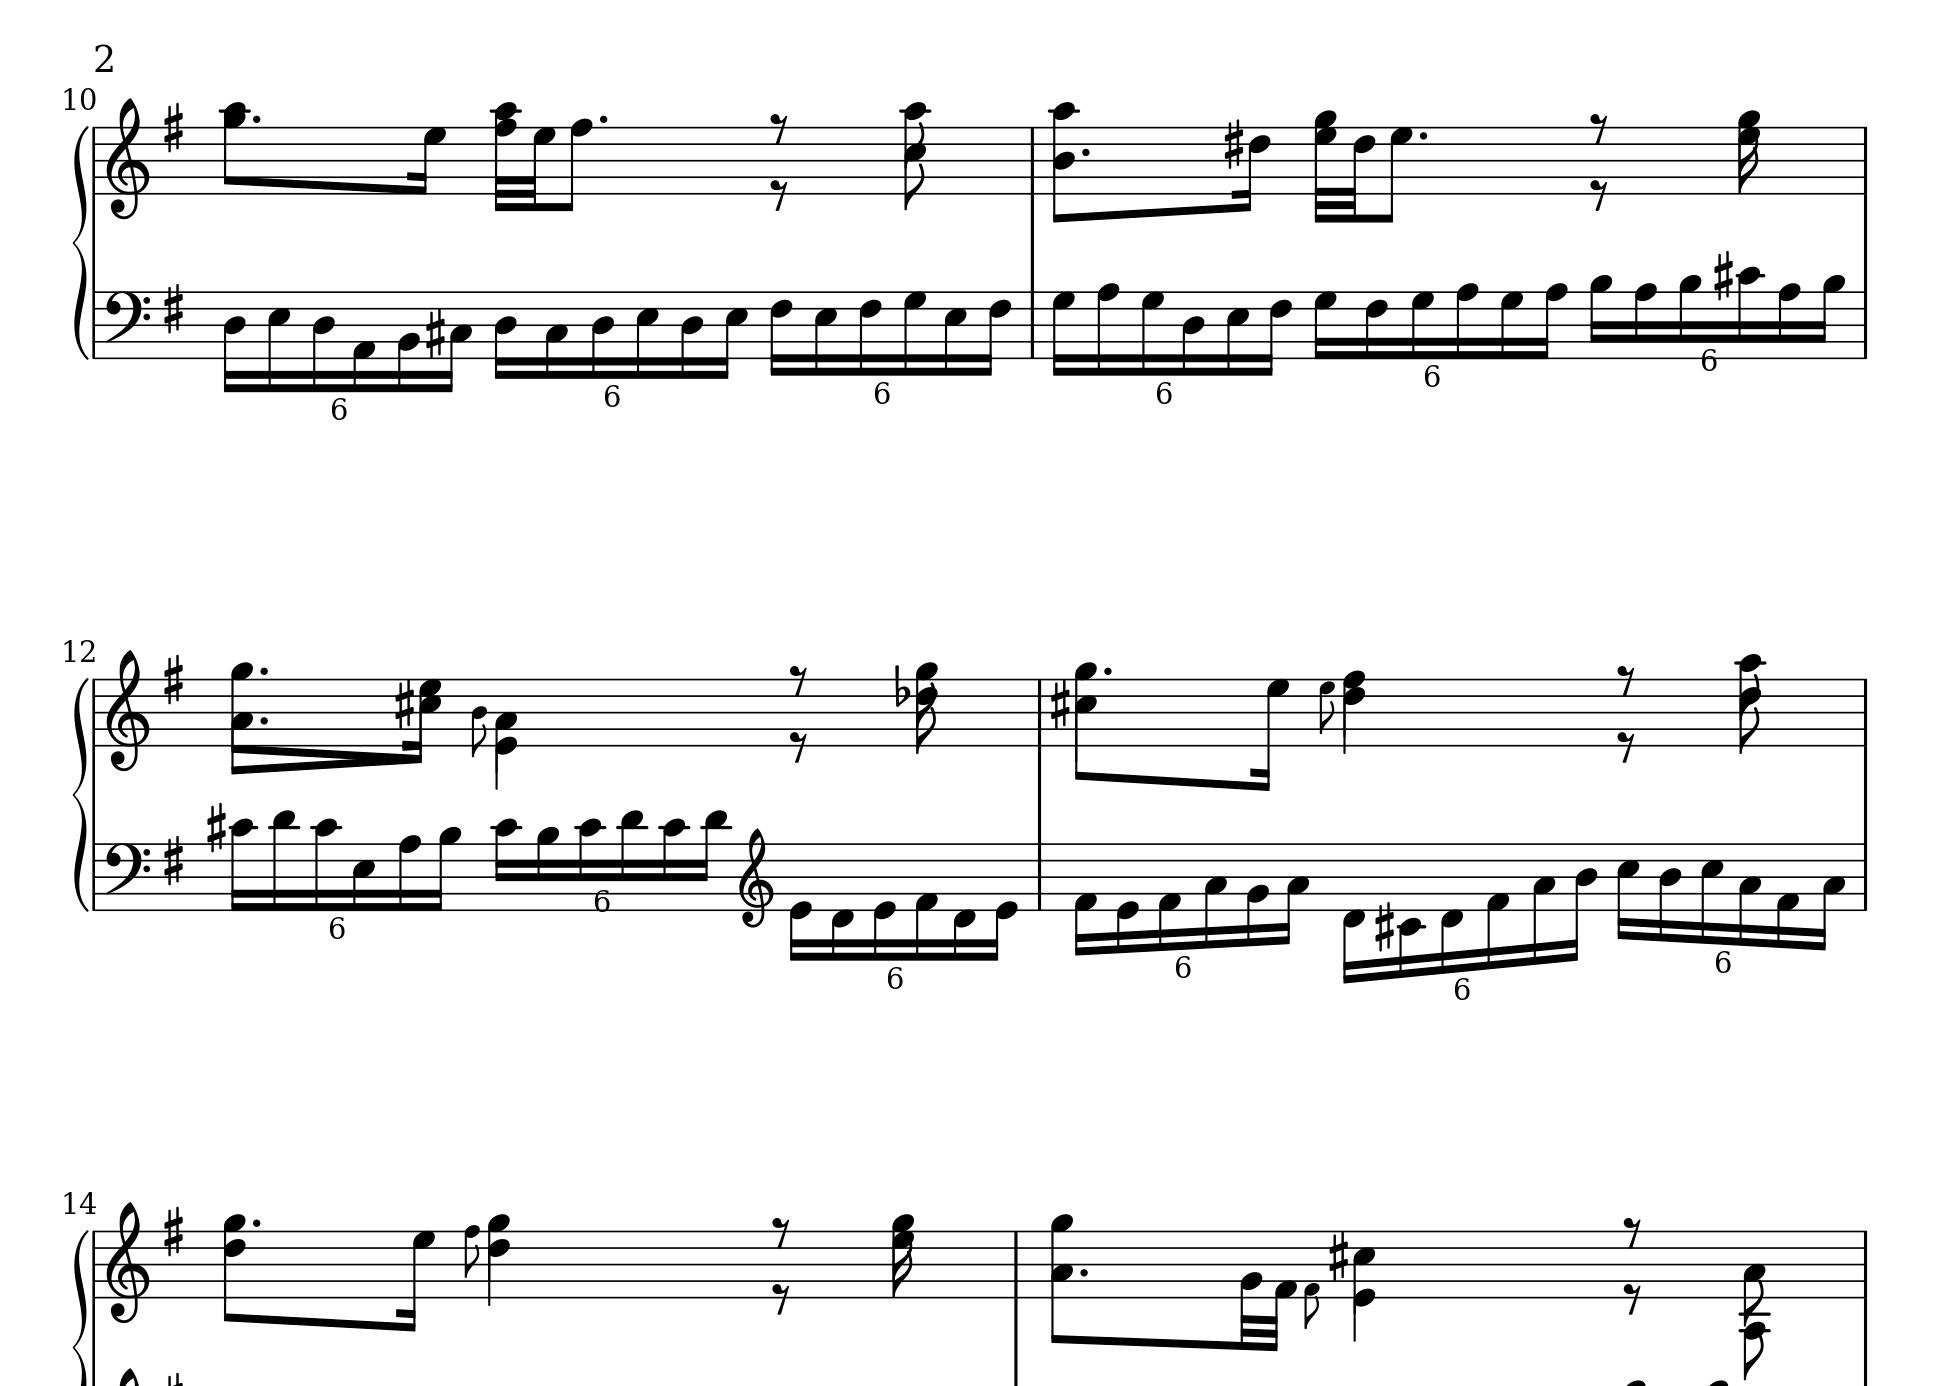0: (79, 84, 96, 112)
1: (61, 85, 76, 112), (61, 637, 76, 664), (61, 1189, 76, 1216)
16_-1: (1341, 840, 1368, 985), (1438, 841, 1465, 976), (829, 840, 856, 961), (952, 840, 978, 961)
16_-2: (1398, 838, 1425, 981)
16_0: (987, 840, 1018, 961), (789, 840, 814, 961), (871, 841, 897, 961), (1116, 841, 1140, 954)
16_1: (1485, 840, 1512, 970), (1072, 840, 1099, 957), (913, 841, 939, 961), (1156, 841, 1183, 952), (1774, 840, 1800, 951), (351, 289, 376, 394)
16_10: (658, 817, 688, 912), (312, 816, 340, 913), (492, 817, 520, 913), (576, 816, 604, 912), (229, 817, 256, 913), (1737, 264, 1764, 358)
16_11: (696, 808, 729, 913), (268, 808, 298, 913), (616, 808, 645, 912)
16_2: (1245, 841, 1272, 946), (394, 289, 421, 393)
16_3: (1815, 840, 1846, 952), (1278, 841, 1311, 946), (1530, 840, 1557, 967), (441, 289, 472, 394), (1203, 841, 1228, 951), (1737, 841, 1762, 949), (544, 289, 570, 381)
16_4: (1566, 841, 1599, 964), (220, 288, 247, 394), (1656, 841, 1683, 945), (310, 288, 336, 394), (589, 289, 616, 381), (493, 289, 519, 382), (679, 289, 705, 382), (1182, 289, 1206, 378)
16_5: (714, 289, 748, 379), (265, 288, 291, 394), (1699, 840, 1725, 945), (1615, 841, 1641, 942), (1224, 289, 1251, 376), (634, 289, 660, 381), (813, 289, 838, 376), (942, 289, 967, 376), (351, 841, 376, 913)
16_5_7: (402, 676, 441, 765)
16_6: (1236, 124, 1272, 211), (978, 288, 1012, 376), (1258, 289, 1293, 376), (769, 289, 793, 378), (858, 289, 882, 376), (1363, 289, 1389, 361)
16_7: (1251, 676, 1290, 792), (397, 1228, 436, 1333), (409, 124, 445, 196), (1050, 289, 1077, 378), (901, 288, 927, 378), (1140, 288, 1165, 378), (1408, 288, 1434, 361), (1498, 288, 1524, 361), (1312, 289, 1338, 361)
16_7_9: (889, 1212, 916, 1300), (1735, 108, 1761, 196)
16_8: (1536, 280, 1569, 360), (1095, 280, 1120, 378), (1776, 280, 1801, 361), (396, 832, 421, 913), (1632, 280, 1657, 360), (1455, 280, 1479, 361), (462, 1222, 481, 1297)
16_9: (1813, 273, 1845, 361), (430, 825, 460, 913), (1677, 271, 1701, 361), (1588, 273, 1612, 360), (535, 825, 559, 912)
2: (91, 40, 115, 73), (78, 637, 97, 664)
3: (592, 889, 610, 912)
32_1: (1266, 1228, 1297, 1351)
32_2: (1239, 1227, 1264, 1351)
32_6: (1347, 123, 1375, 223)
32_7: (523, 124, 556, 211)
32_7_9: (1314, 109, 1339, 223)
32_8_10: (490, 100, 520, 213)
4: (78, 1188, 99, 1216)
4_4_10: (1050, 100, 1080, 223)
4_6_10: (1341, 669, 1369, 756)
4_6_9: (486, 1213, 511, 1308)
8_2: (1302, 1233, 1320, 1330)
8_3: (1741, 1225, 1767, 1318)
8_3_9: (1050, 1213, 1074, 1345)
8_4: (469, 678, 487, 759)
8_5_10: (898, 99, 928, 208)
8_5_9: (1074, 661, 1101, 784)
8_6_10: (1735, 652, 1767, 754)
8_6_9: (222, 1212, 247, 1324)
8_7: (1381, 124, 1413, 223)
8_8: (559, 115, 592, 214)
8_9: (222, 100, 249, 198)
Brace: (70, 673, 90, 913), (70, 124, 90, 361)
Fclef: (102, 288, 151, 360), (102, 840, 151, 912)
Flat: (892, 663, 909, 708)
Gclef: (103, 97, 151, 220), (103, 648, 150, 772), (103, 1200, 150, 1324), (736, 826, 775, 928)
Rests8: (766, 175, 790, 211), (769, 1279, 793, 1315), (787, 727, 810, 763), (1615, 727, 1638, 763), (1621, 1279, 1644, 1315), (1588, 177, 1611, 211), (768, 109, 789, 144), (787, 661, 808, 694), (1615, 661, 1636, 694), (769, 1213, 790, 1246), (1621, 1213, 1642, 1246), (1590, 109, 1609, 142)
Sharp: (160, 832, 186, 889), (160, 280, 186, 336), (160, 1204, 186, 1258), (160, 652, 184, 706), (162, 100, 184, 154), (1327, 1228, 1350, 1282), (1224, 117, 1245, 171), (205, 801, 226, 855), (1713, 249, 1734, 301), (424, 307, 445, 358), (1050, 679, 1071, 730), (1374, 901, 1395, 952), (394, 679, 414, 730)
Single_barline: (1855, 843, 1876, 910), (1006, 1231, 1026, 1297), (1030, 843, 1050, 907), (1857, 678, 1875, 745), (1024, 127, 1042, 193), (1857, 127, 1875, 193), (1032, 679, 1050, 745), (1024, 289, 1041, 358), (1857, 291, 1873, 358), (1857, 1230, 1873, 1297), (88, 678, 103, 745), (88, 291, 102, 358), (88, 843, 102, 910), (88, 1230, 102, 1297), (88, 127, 102, 193)
dot: (256, 663, 271, 678), (256, 712, 271, 727), (1077, 1264, 1092, 1279), (1417, 127, 1431, 142), (1080, 144, 1093, 159), (1101, 663, 1114, 678), (249, 1215, 262, 1230), (249, 112, 262, 126), (597, 112, 610, 124)
